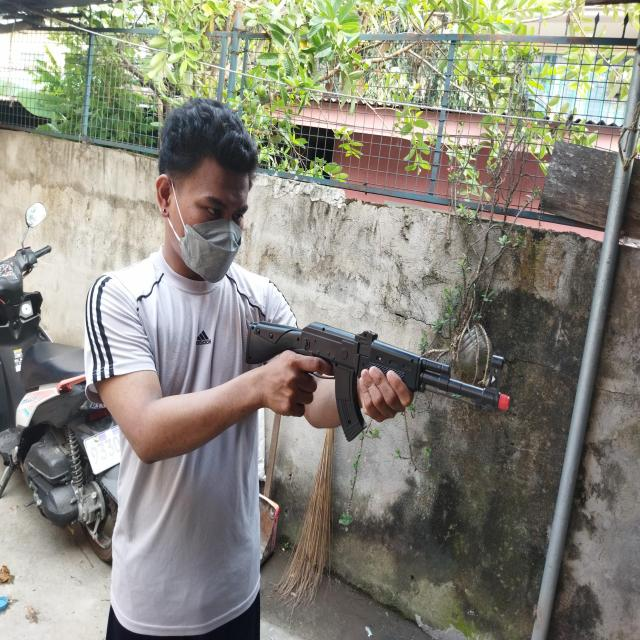rifle: (246, 311, 509, 442)
